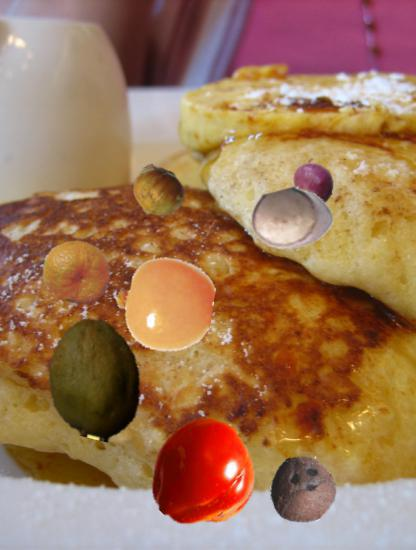Cocos: (268, 455, 338, 525)
Hazelnut: (249, 176, 335, 262)
Mandarine: (42, 238, 111, 307)
Onion: (131, 165, 186, 220), (286, 163, 339, 216)
Papaya: (37, 319, 156, 438)
Physalis: (113, 254, 214, 355)
Tomato: (148, 420, 259, 531)
